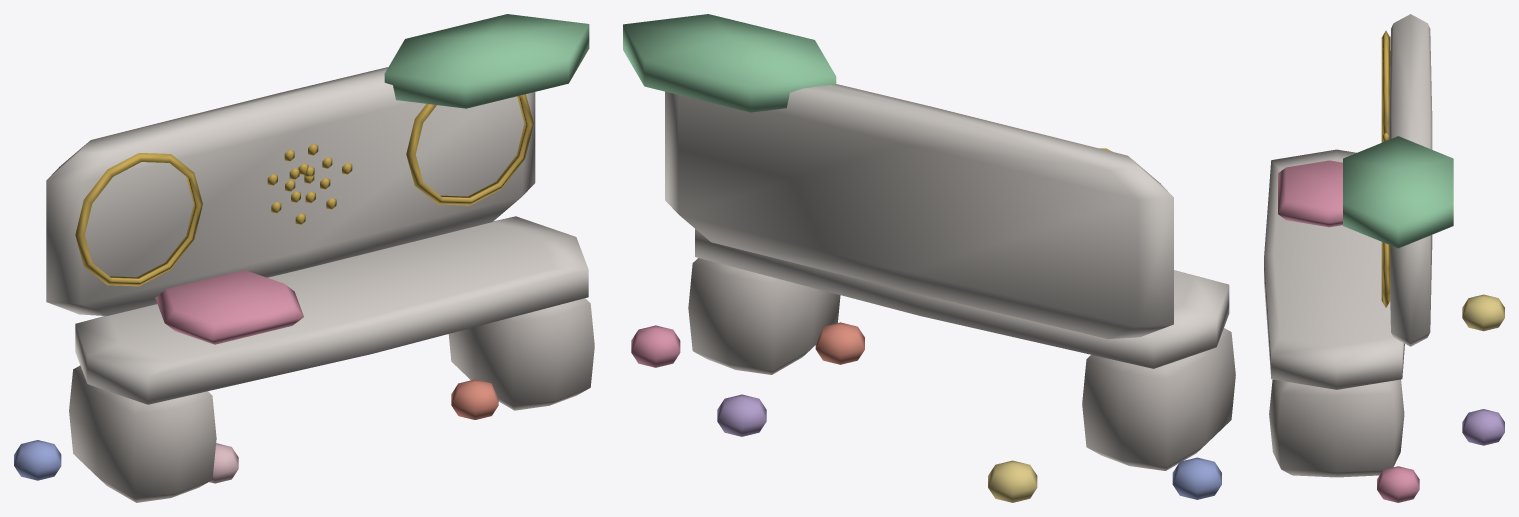
Rendered from fells_overlook_bench.gltf.
3 renders of one model, left to right at view 1: azimuth 30°, elevation 25°; view 2: azimuth 150°, elevation 25°; view 3: azimuth 270°, elevation 25°, orthographic. The views are drawn at different scales.
Visible parts, largest first — view 1: fells_overlook_bench; view 2: fells_overlook_bench; view 3: fells_overlook_bench.
Part boxes in pixels (x1,y1,x2,y2): fells_overlook_bench: (14, 14, 594, 502); fells_overlook_bench: (623, 14, 1235, 502); fells_overlook_bench: (1264, 14, 1504, 502).
Size of what is drawn, in the model's own units: 2.43 by 1.34 by 0.9785.
